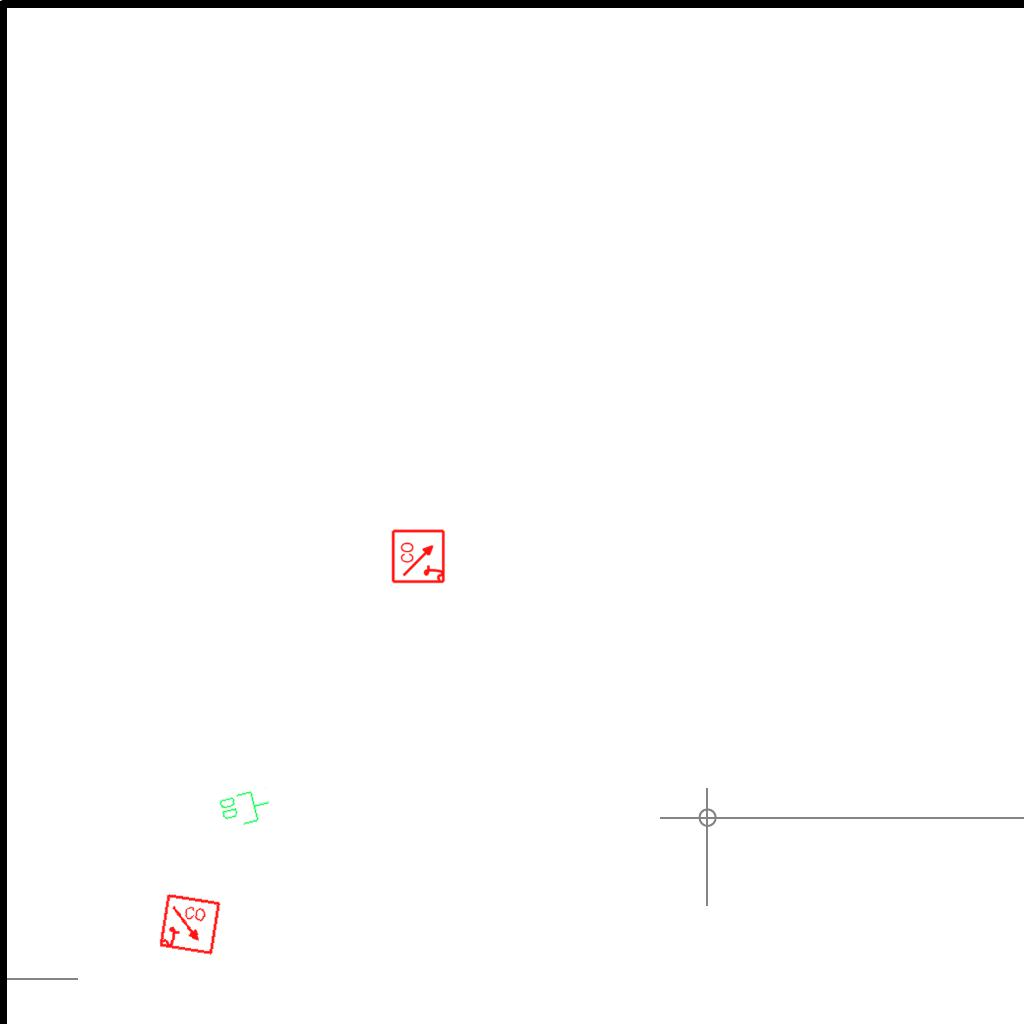Datenanschluss_zweifach: (216, 785, 275, 831)
ROA_Rauchmelder_optisch_mit_Signalgeber_(Sockelsirene): (157, 892, 223, 958), (391, 528, 447, 584)
